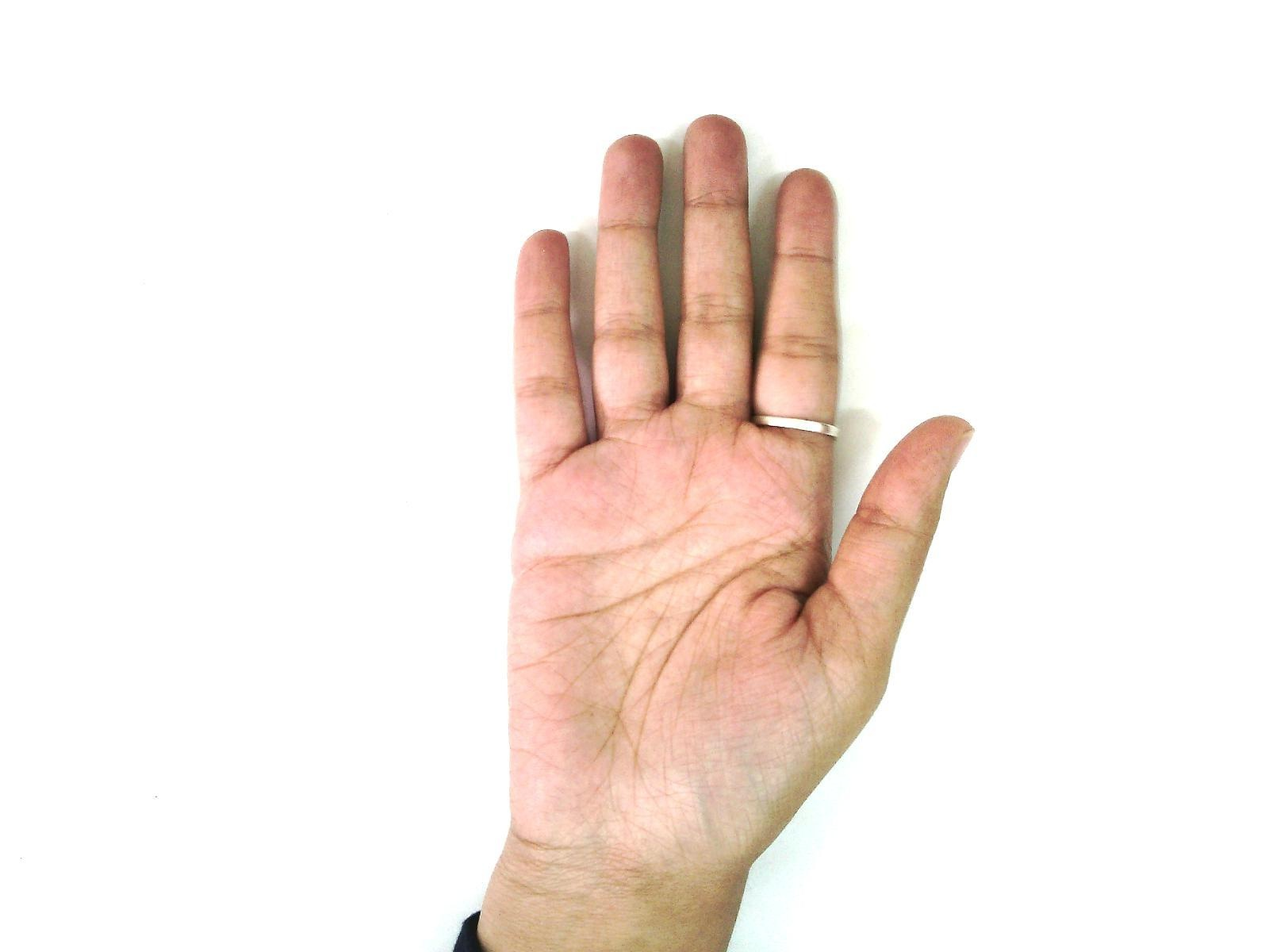open_palm: (475, 113, 977, 941)
